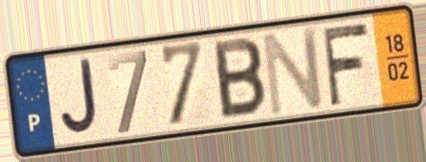7: (160, 38, 207, 131), (106, 48, 150, 136)
B: (211, 35, 269, 123)
F: (319, 19, 372, 110)
J: (58, 56, 102, 139)
N: (260, 24, 327, 119)
